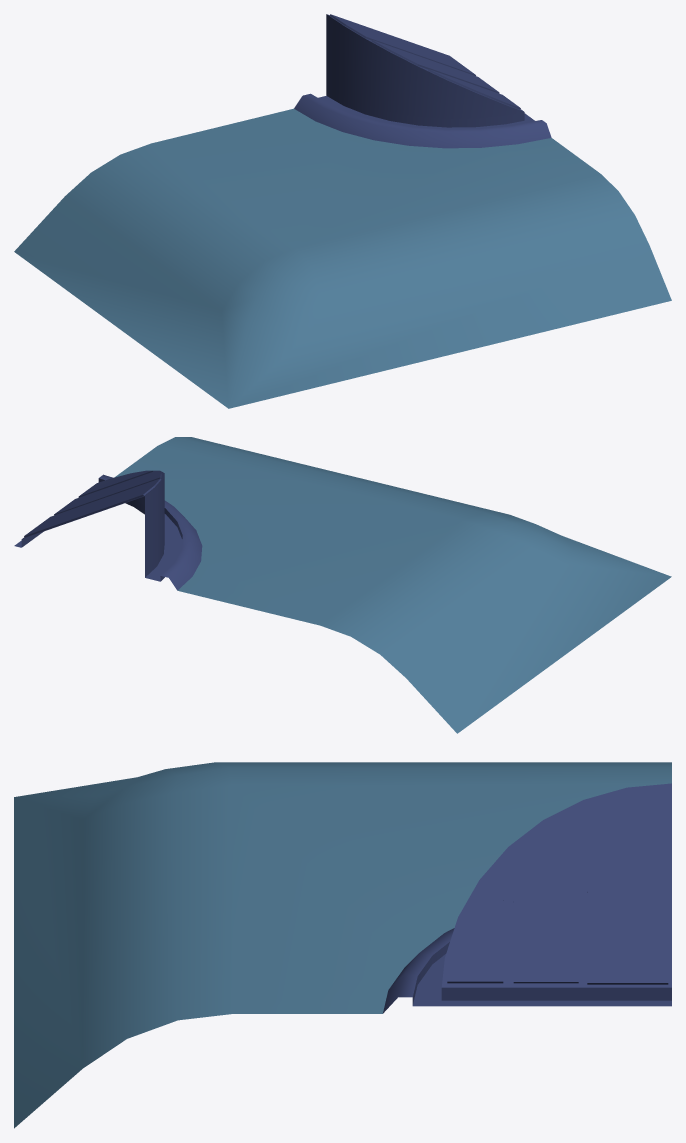
The model's file is Tile06.fbx.
The picture shows the model from 3 angles, top to bottom: view 1: azimuth 30°, elevation 25°; view 2: azimuth 150°, elevation 25°; view 3: azimuth 270°, elevation 25°; orthographic projection. The views are drawn at different scales.
Visible parts, largest first — view 1: Tile6; view 2: Tile6; view 3: Tile6.
Boxes of the visible parts, x1,y1,x2,y2 form: Tile6: [14, 14, 671, 408]; Tile6: [14, 437, 671, 733]; Tile6: [14, 762, 671, 1128].
Bounding box in the file's own units: 775 × 270 × 650.
